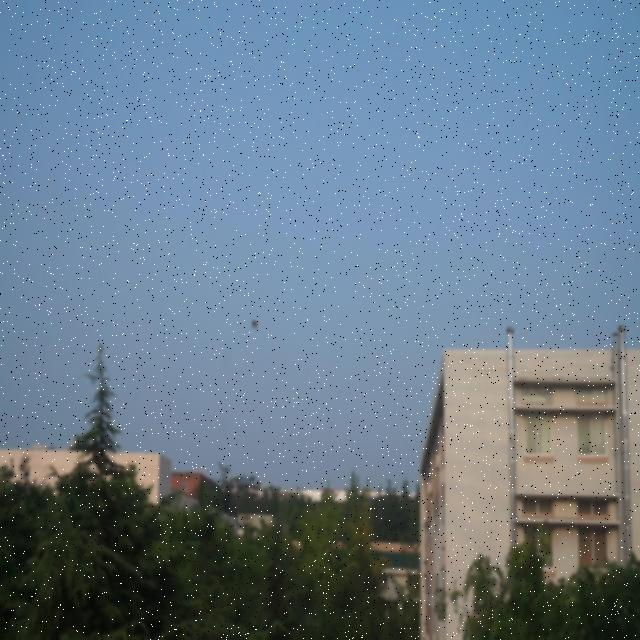UAV: (252, 321, 258, 330)
